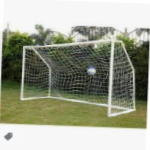goals: (20, 38, 137, 117)
